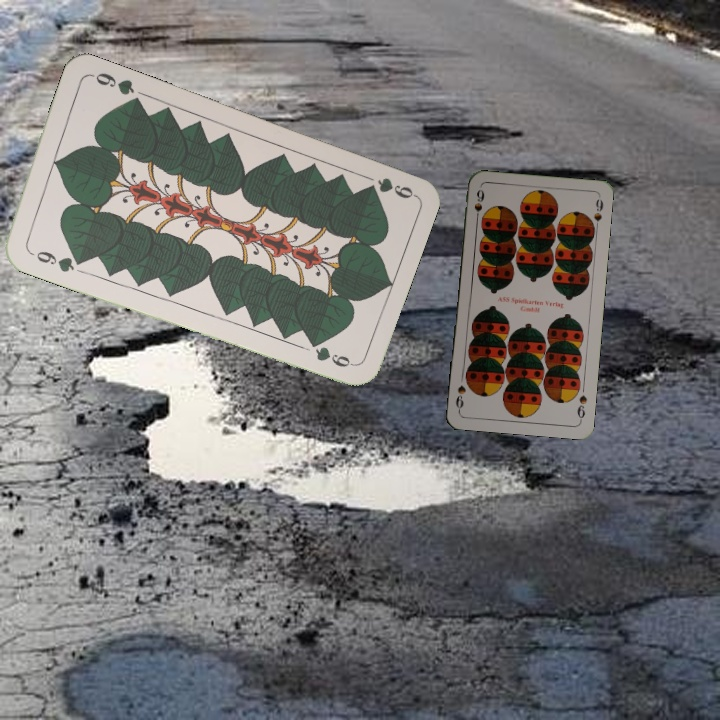G9: (24, 245, 82, 275), (362, 173, 416, 202)
S9: (470, 186, 487, 225), (573, 391, 590, 423)
